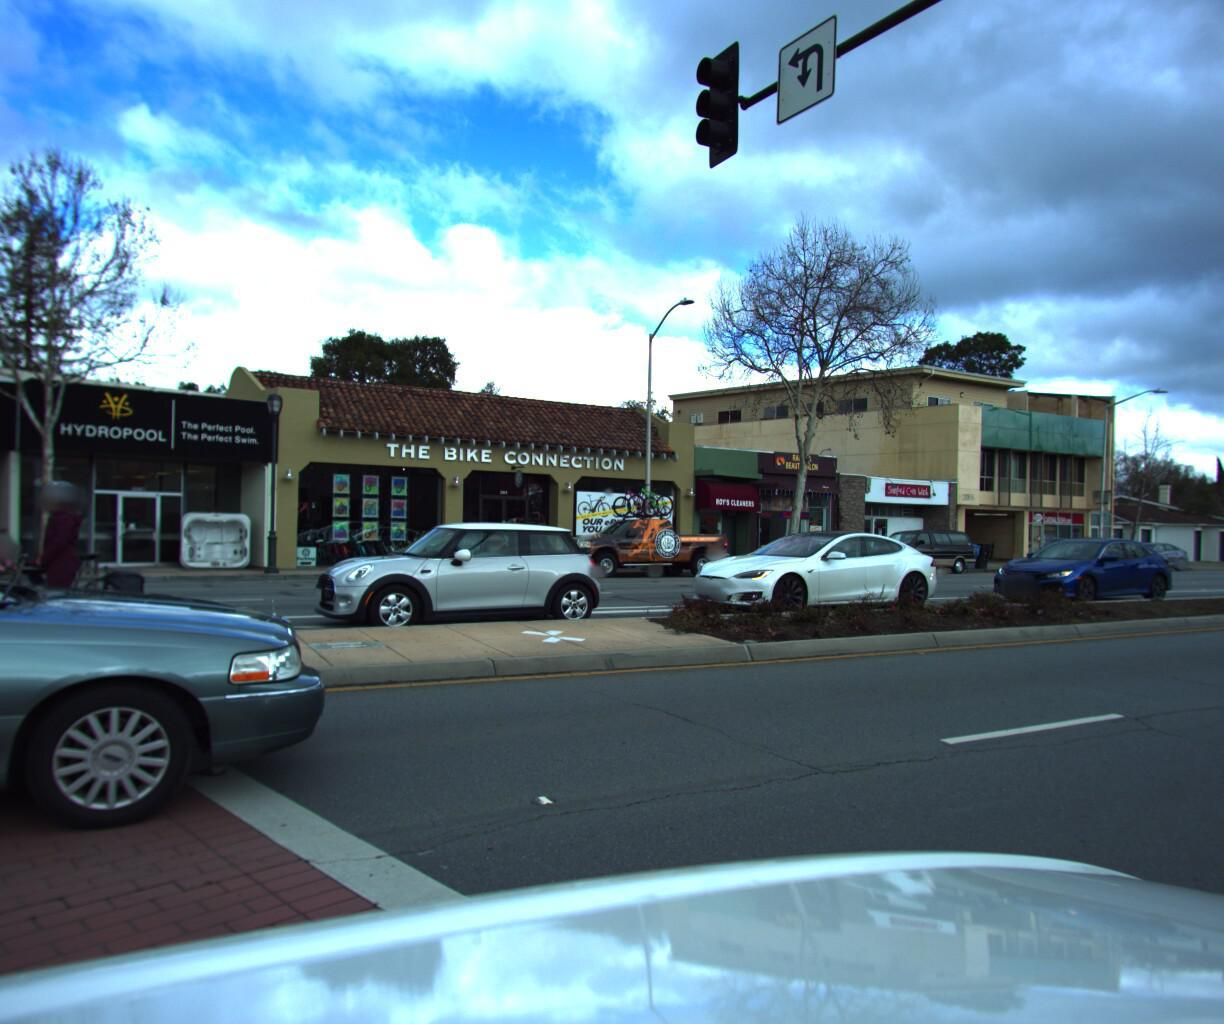car: (300, 511, 617, 640), (672, 523, 956, 621), (544, 480, 735, 578), (976, 528, 1181, 605), (372, 525, 549, 584), (857, 522, 977, 570), (1092, 534, 1188, 567)
